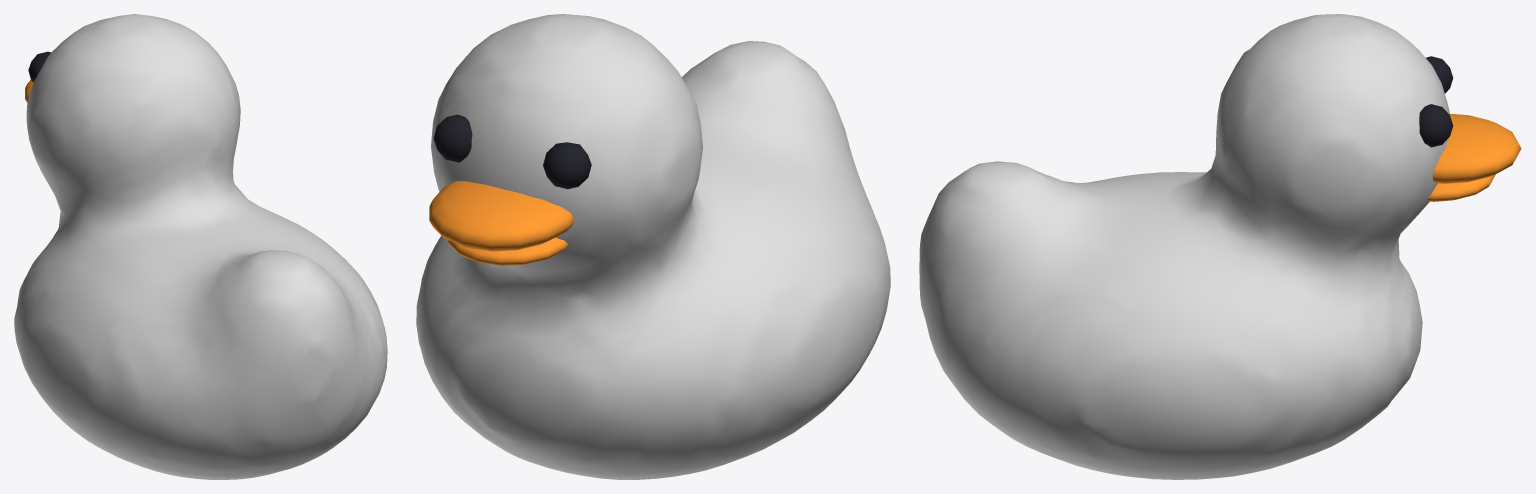
File: LobbyDuck.obj
3 views of the same model, side by side, from view 1: azimuth 30°, elevation 25°; view 2: azimuth 150°, elevation 25°; view 3: azimuth 270°, elevation 25° (orthographic). The views are drawn at different scales.
Parts seen in each view (by area): view 1: Body; view 2: Body, Beak, Eyes; view 3: Body, Beak, Eyes.
Boxes of the visible parts, x1,y1,x2,y2 form: Body: (14,14,387,479); Body: (416,14,890,479); Beak: (429,181,574,265); Eyes: (433,114,591,189); Body: (919,14,1449,479); Beak: (1427,113,1521,201); Eyes: (1419,56,1453,147).
Size of the model in its own units: 1.56 by 1.83 by 2.34.
